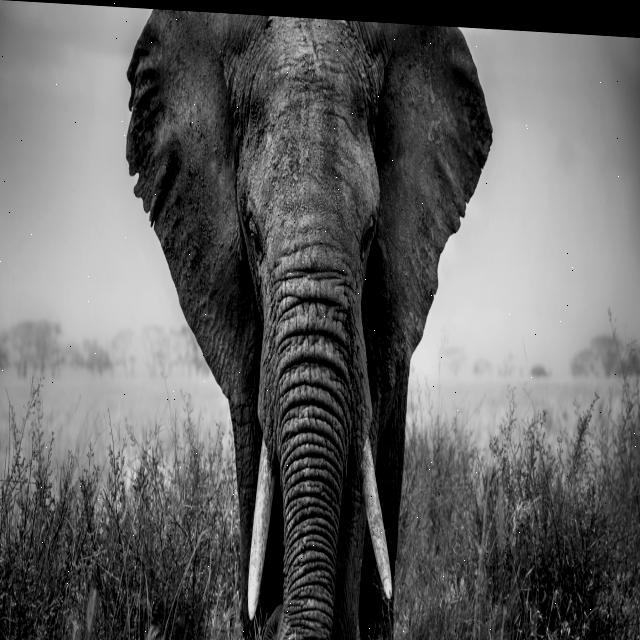Elephant: (125, 8, 493, 640)
